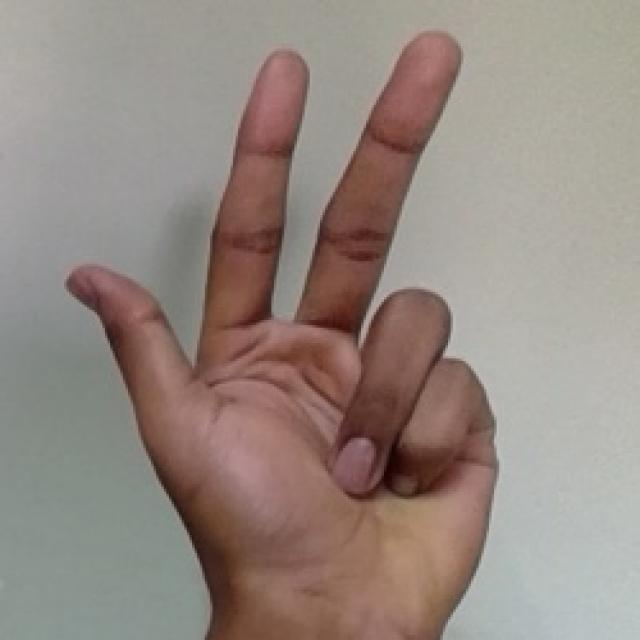Numeric-3: (59, 31, 501, 616)
